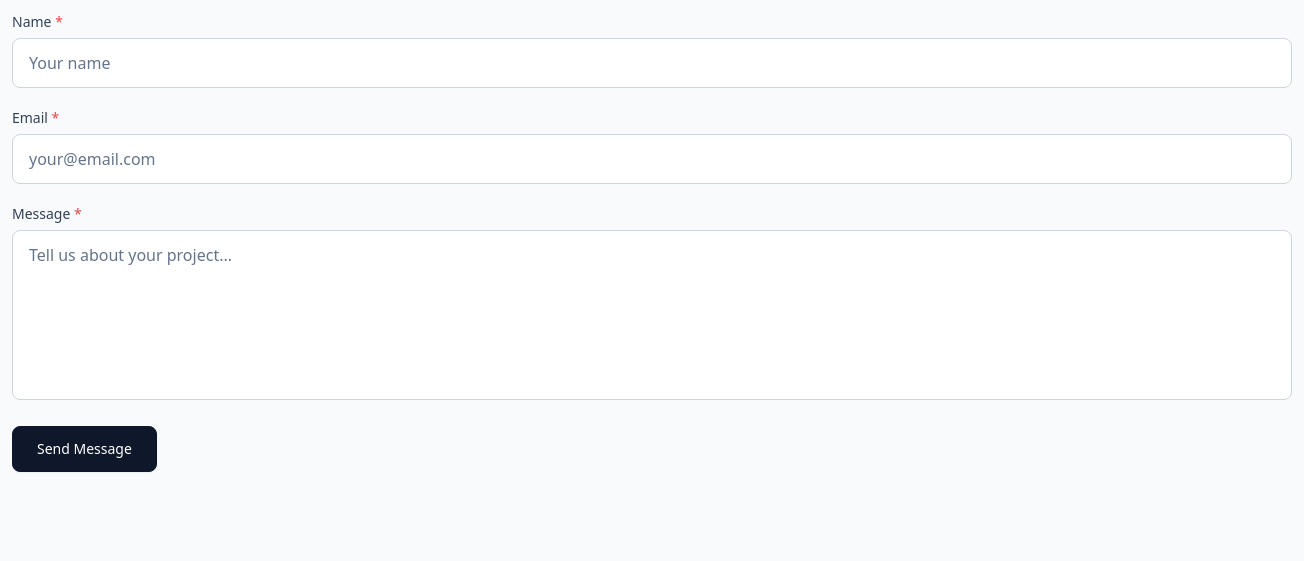
Test: ContactForm › clears errors when user starts typing
// Submit empty form to trigger errors
Submit the form named "contact form"
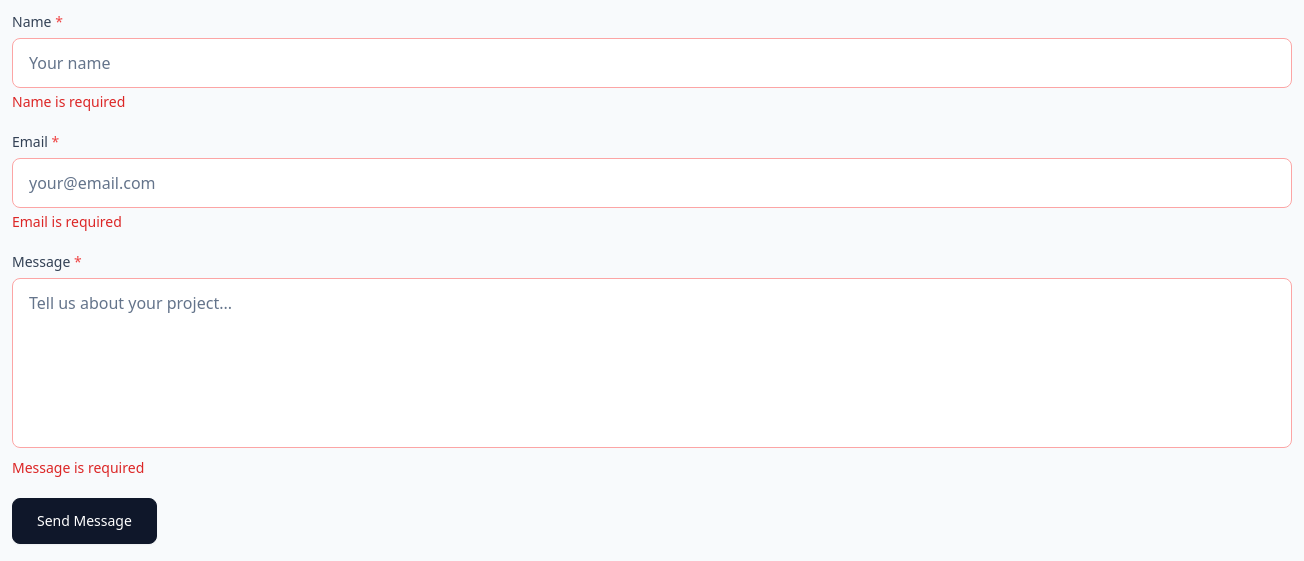
Expected: the text "Name is required" is shown, [12, 92, 125, 111]
// Start typing in name field
In the field labelled "Name *": (652,63) [12, 38, 1292, 88], type "Test"
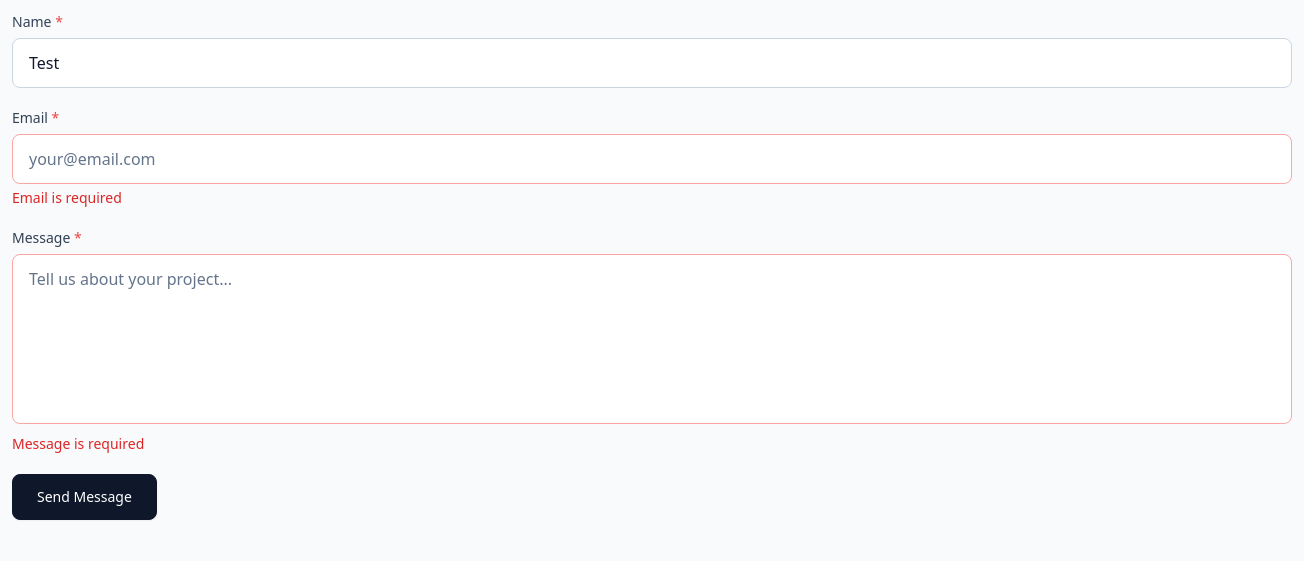
Expected: the text "Name is required" is gone
